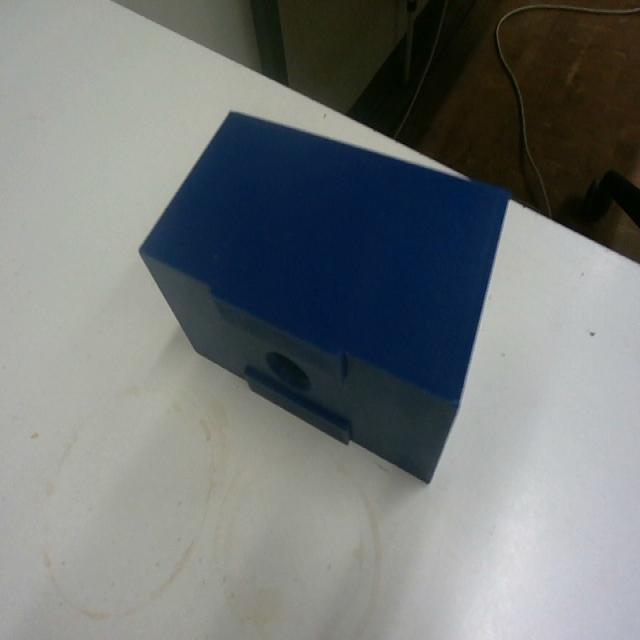Blue Cuboid: (136, 106, 512, 486)
